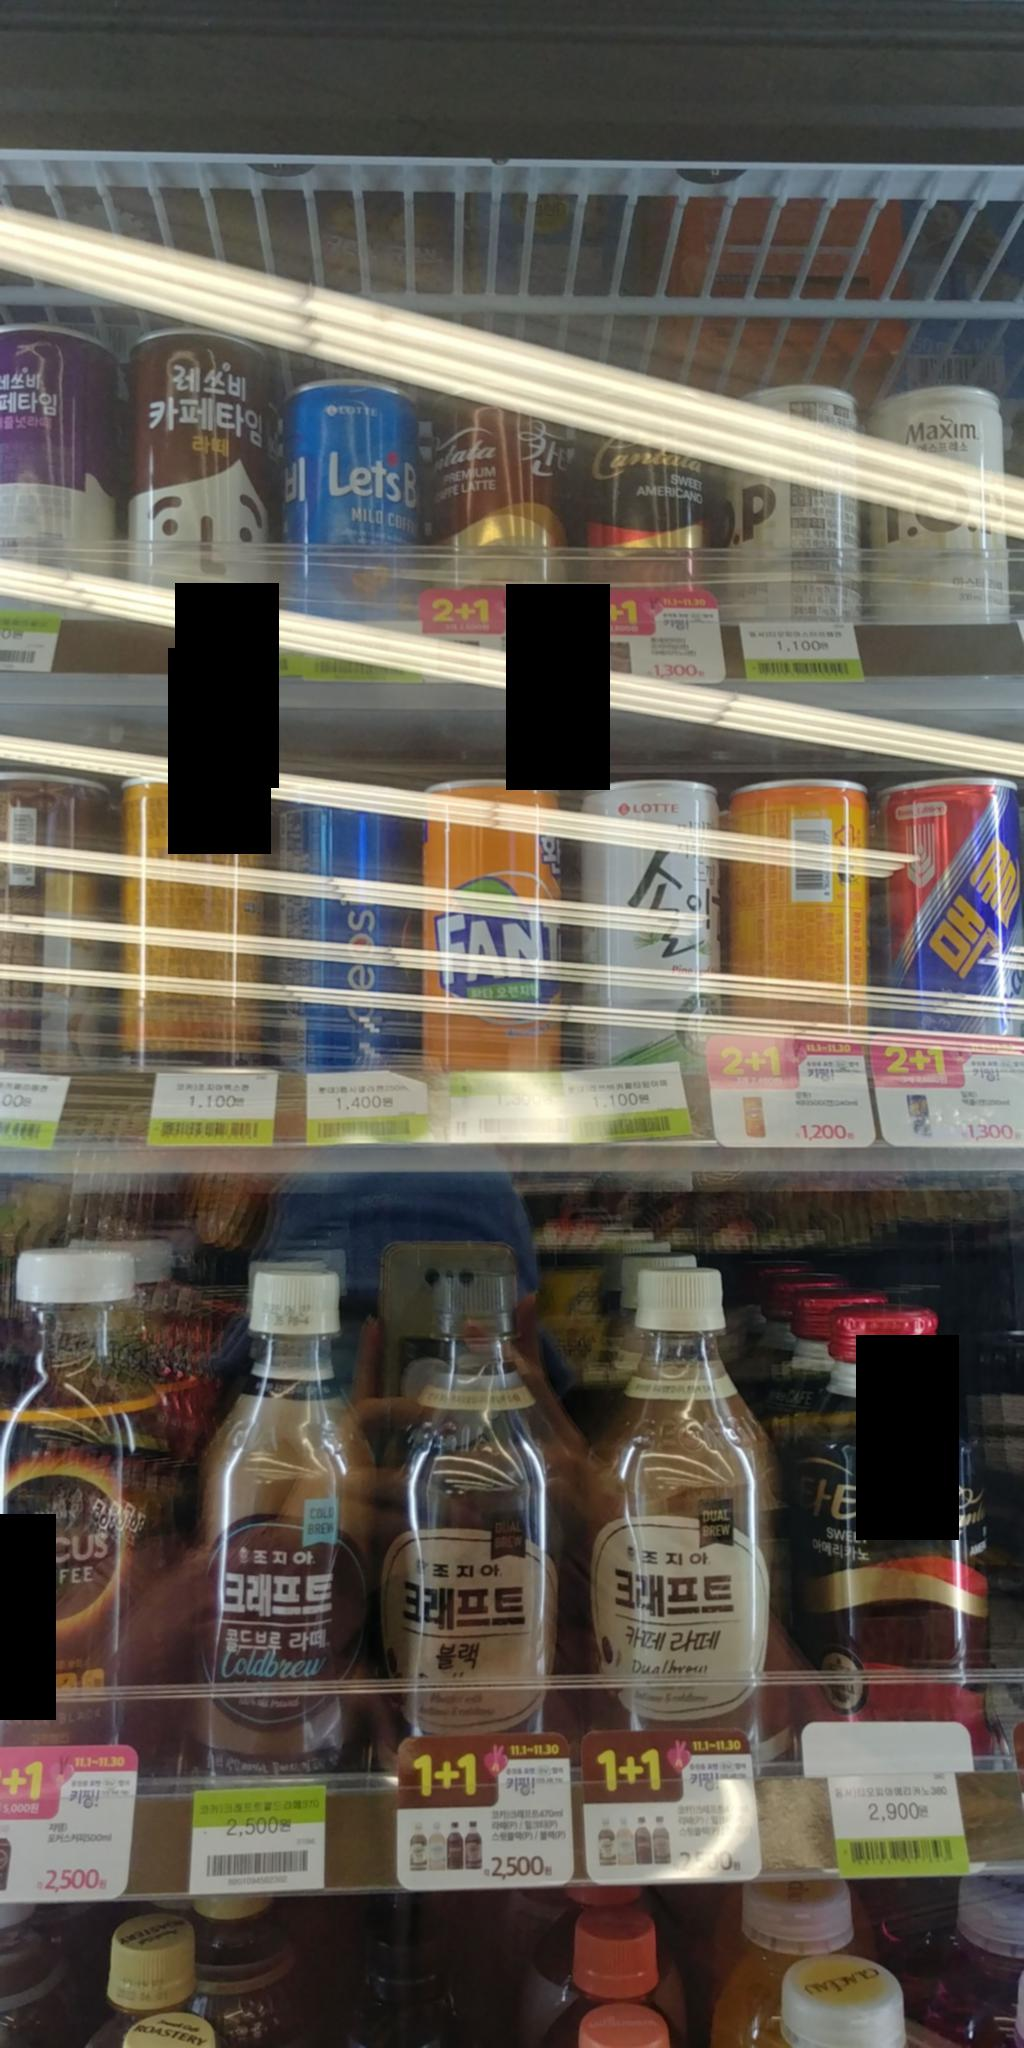georgiacraft_black: (360, 1266, 584, 1789)
letsbe: (283, 371, 432, 636)
